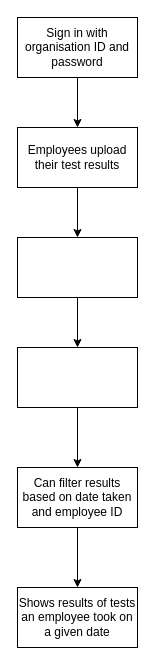
Image size: 155x665. Some labels were removed from this diagram. Here are the shapes that lost their labels. From the top down, the centre of each, then its label:
At (x=77, y=267): "Employers view the employees' test results stored in a DynamoDB database".
At (x=77, y=377): "Red alert via email for positive results".
